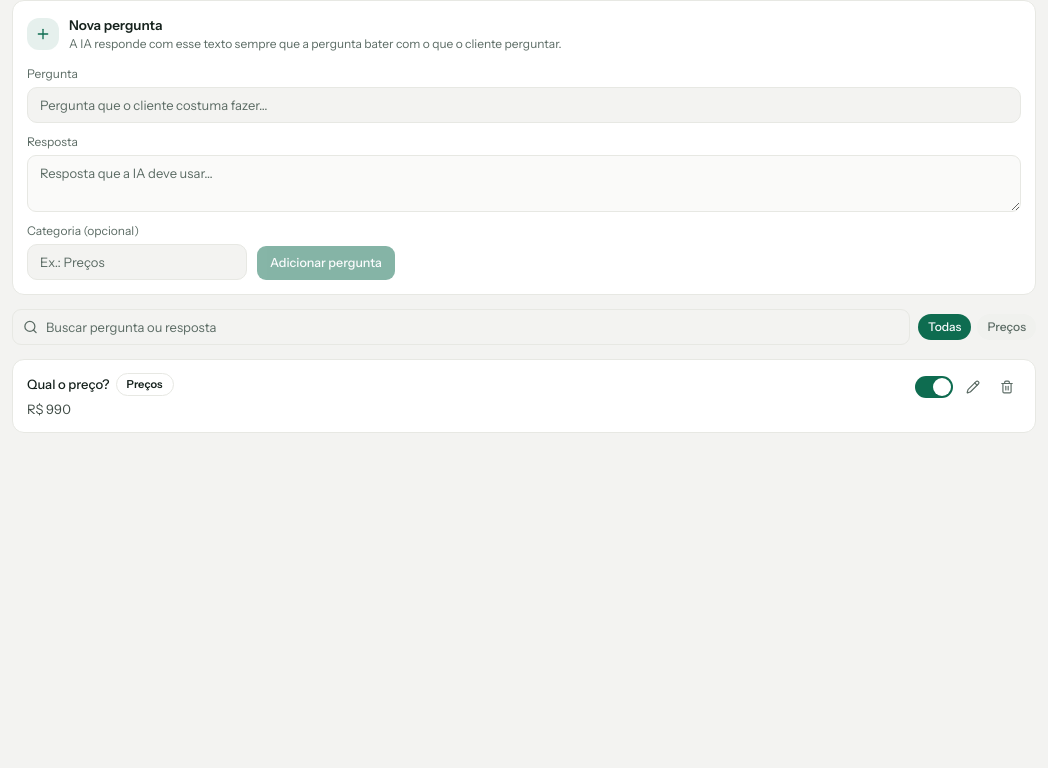
Scenario: AiFaqPanel (Cérebro da IA v3, Fase 2) › edita uma FAQ existente (inline) e salva
The width and height of the screenshot is (1048, 768).
Expected: the text "Qual o preço?" is shown, [27,375,110,394]
Step 1. Click the button named "Editar" → (973, 387), box [959,373,987,401]
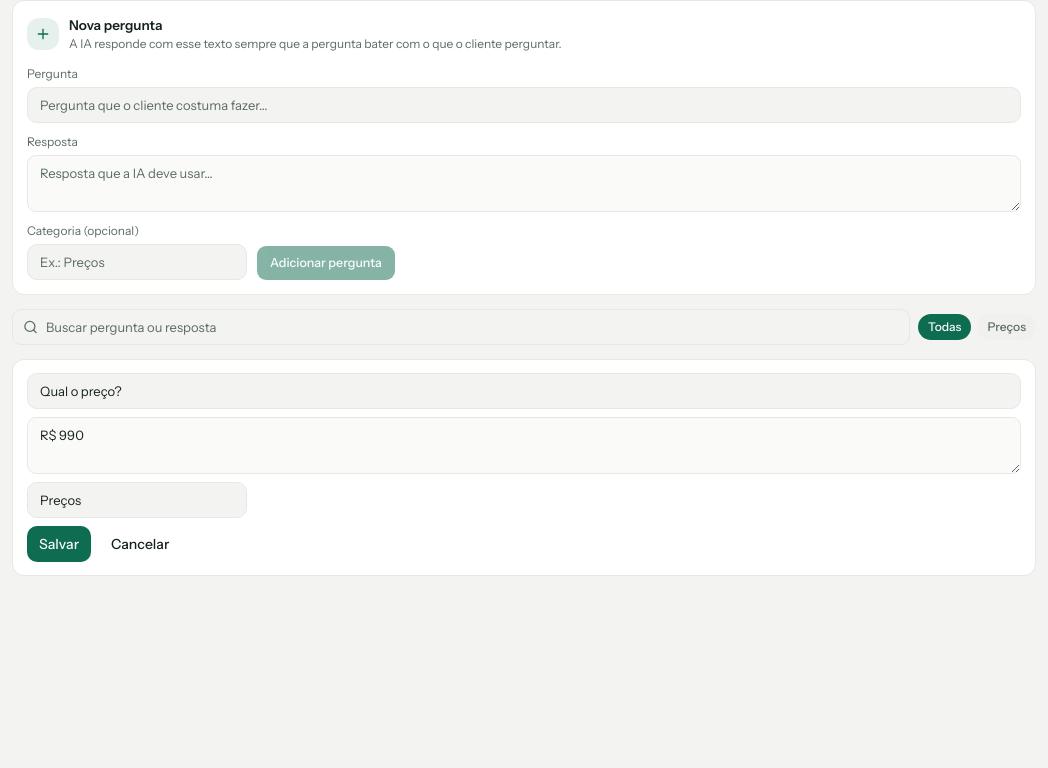
Step 2. Replace the text in the 1st field showing "Qual o preço?" with "Pergunta nova" → (524, 391), box [27,373,1021,409]
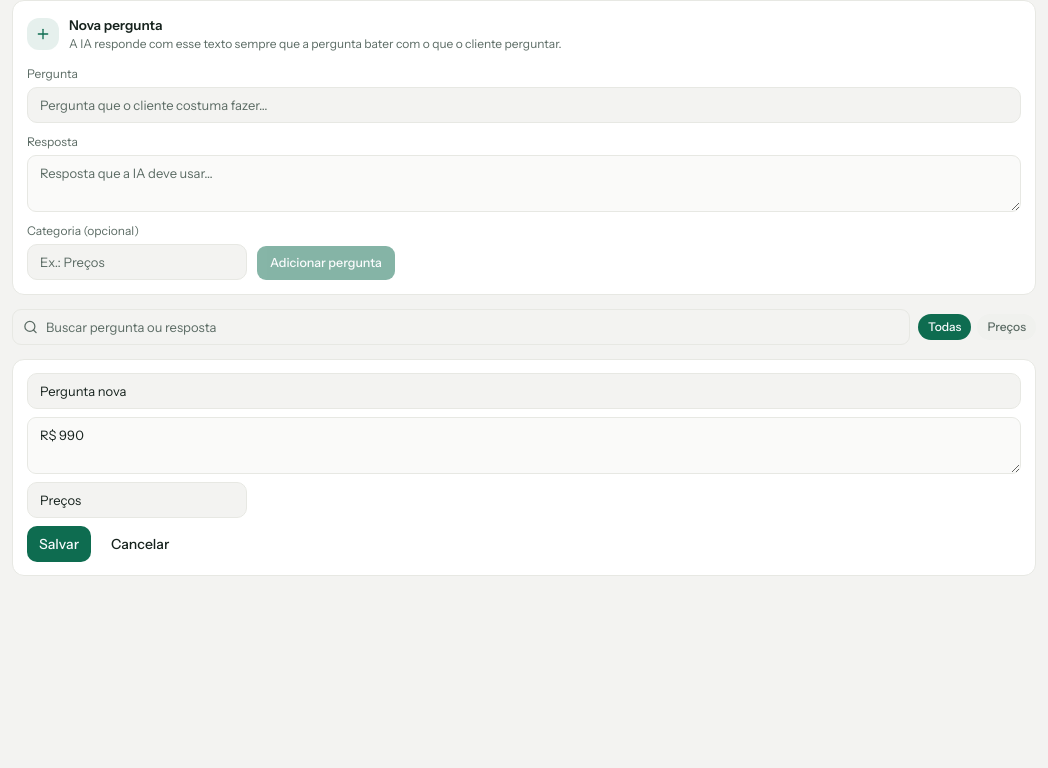
Step 3. Click the button "Salvar" → (59, 544), box [27,526,91,562]
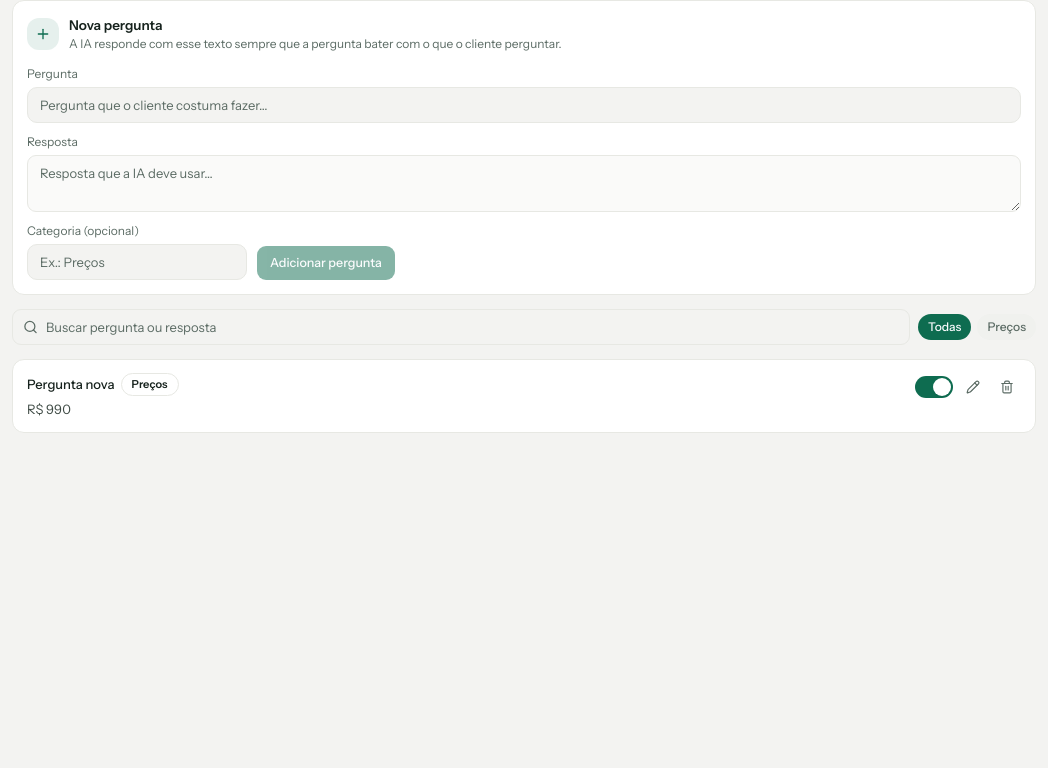
Result: the text "Pergunta nova" is shown at [27,375,115,394]
